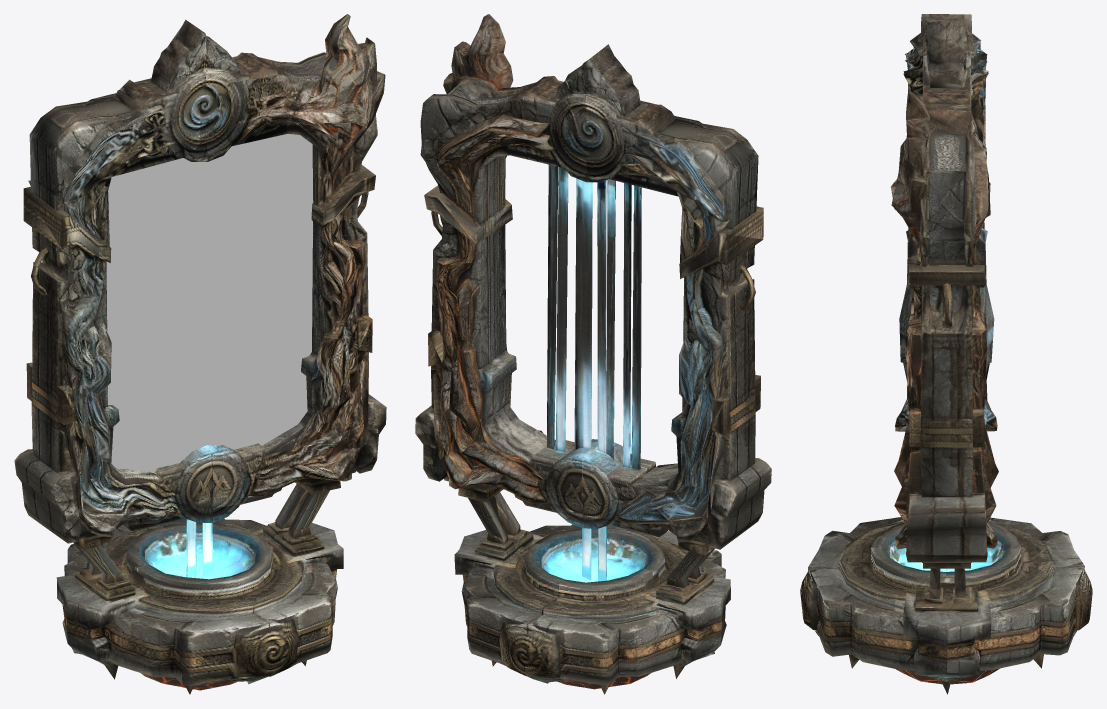
Rendered from portal.glb.
3 renders of one model, left to right at view 1: azimuth 30°, elevation 25°; view 2: azimuth 150°, elevation 25°; view 3: azimuth 270°, elevation 25°, orthographic. The views are drawn at different scales.
Visible parts, largest first — view 1: mesh_node, PORTAL_CANVAS_SURFACE; view 2: mesh_node; view 3: mesh_node.
Part boxes in pixels (x1=…): mesh_node: x1=14, y1=14, x2=386, y2=694; PORTAL_CANVAS_SURFACE: x1=106, y1=134, x2=313, y2=471; mesh_node: x1=415, y1=14, x2=771, y2=694; mesh_node: x1=800, y1=14, x2=1092, y2=694.
Bounding box in the file's own units: 0.5293 × 0.9961 × 0.3975.
1 material, 1 textured.
